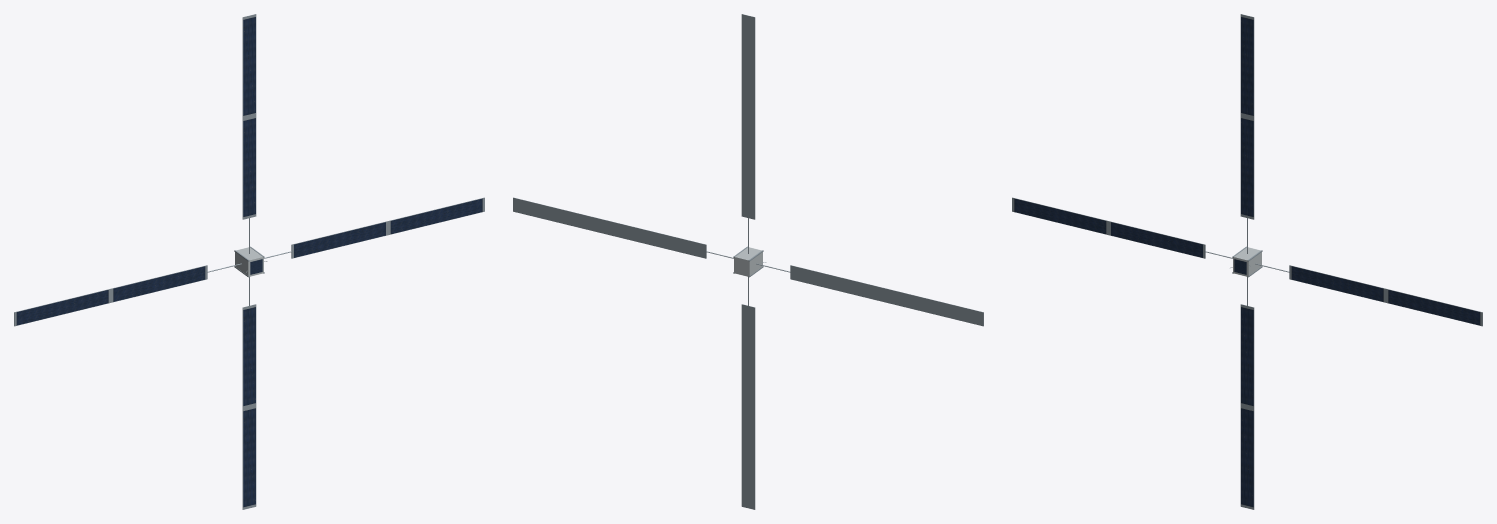
Rendered from ref-cubesat-6u-52766.glb.
3 views of the same model, side by side, from view 1: azimuth 30°, elevation 25°; view 2: azimuth 150°, elevation 25°; view 3: azimuth 330°, elevation 25° (orthographic).
Parts seen in each view (by area): view 1: Photovoltaic laminates (×8); view 2: Array frame (×8), Spacecraft body; view 3: Photovoltaic laminates (×8).
Part boxes in pixels (<box>): Photovoltaic laminates (×8): <box>16,17,482,507</box>; Array frame (×8): <box>513,14,983,509</box>; Spacecraft body: <box>734,247,762,276</box>; Photovoltaic laminates (×8): <box>1014,17,1480,507</box>.
Size of the model in its own units: 6 by 6 by 0.3137.
3 materials, 1 textured.
